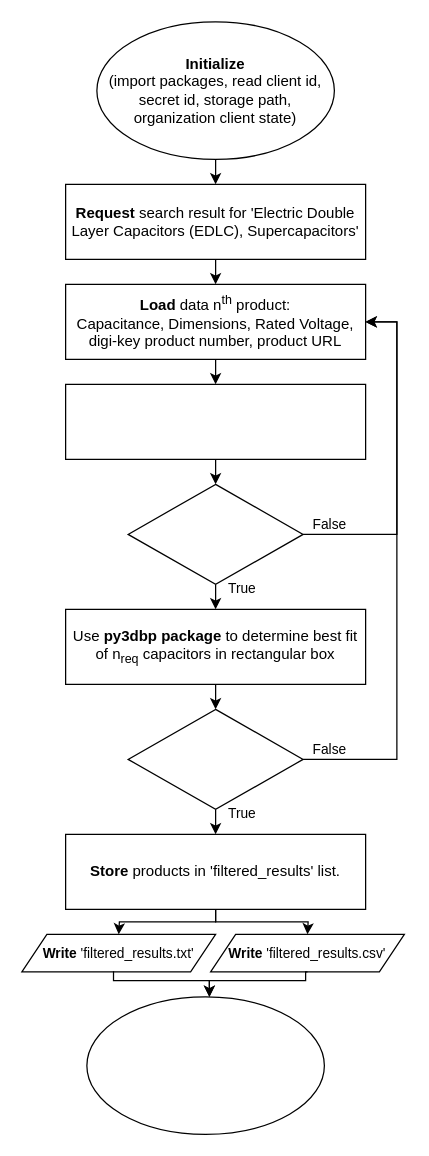
Image size: 429x1156. Some labels were removed from this diagram. The box of each missing label's shape, as (x1, y1, x2, y2) in pixels:
Compute : C req = (2E) / V n 2 n req = C req / Capacitance: (64, 383, 366, 459)
Condition : Vol box >= Vol cap: (127, 483, 303, 584)
Condition: no fitted >= n req: (127, 708, 303, 809)
Print: Total no. of capacitors found No. of results after filtering: (86, 996, 324, 1134)
